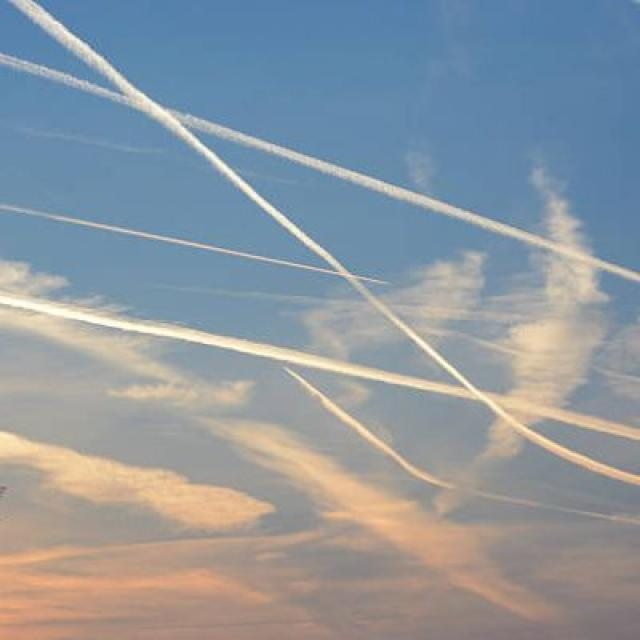Ct: (1, 24, 640, 461)
